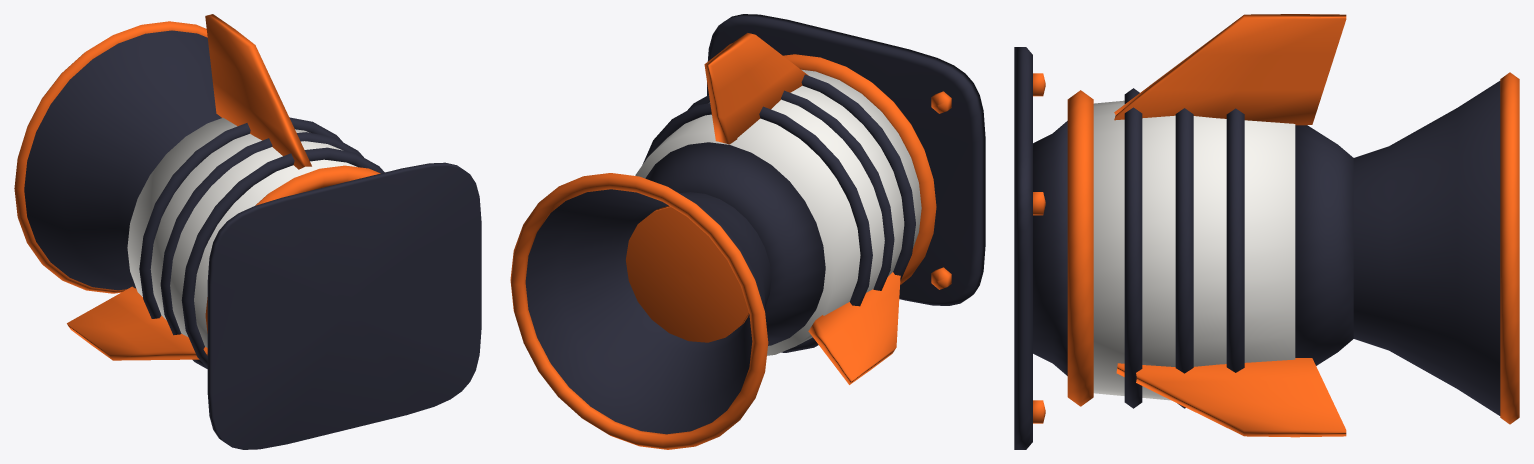
File: rocket_booster_hinten.glb
3 views of the same model, side by side, from view 1: azimuth 30°, elevation 25°; view 2: azimuth 150°, elevation 25°; view 3: azimuth 270°, elevation 25° (orthographic). The views are drawn at different scales.
Parts seen in each view (by area): view 1: MountPlate, Nozzle, Body, Fin_1, Fin_2, NozzleLip, Rib_1, Rib_3, Rib_2, Collar; view 2: Nozzle, MountPlate, Body, Waist, NozzleLip, NozzleThroat, Fin_1, Fin_2, Collar, Rib_3, Rib_1, Rib_2; view 3: Body, Nozzle, Fin_1, Waist, Fin_3, Collar, Adapter, MountPlate, NozzleLip, Rib_1, Rib_2, Rib_3.
Part boxes in pixels (x1,y1,x2,y2): MountPlate: [207, 162, 481, 449]; Nozzle: [24, 30, 221, 290]; Body: [127, 117, 356, 347]; Fin_1: [205, 14, 311, 169]; Fin_2: [67, 286, 207, 360]; NozzleLip: [14, 21, 207, 293]; Rib_1: [181, 147, 384, 367]; Rib_3: [139, 117, 342, 318]; Rib_2: [160, 132, 363, 368]; Collar: [205, 165, 380, 333]; Nozzle: [525, 189, 771, 434]; MountPlate: [707, 14, 985, 305]; Body: [635, 69, 921, 355]; Waist: [645, 142, 825, 345]; NozzleLip: [510, 173, 768, 449]; NozzleThroat: [626, 206, 749, 342]; Fin_1: [704, 33, 808, 144]; Fin_2: [808, 272, 900, 384]; Collar: [783, 54, 936, 284]; Rib_3: [642, 103, 872, 352]; Rib_1: [801, 74, 915, 280]; Rib_2: [687, 90, 894, 290]; Body: [1093, 100, 1295, 400]; Nozzle: [1353, 81, 1500, 415]; Fin_1: [1114, 14, 1346, 125]; Waist: [1295, 125, 1353, 365]; Fin_3: [1116, 358, 1346, 437]; Collar: [1067, 90, 1093, 406]; Adapter: [1033, 121, 1067, 375]; MountPlate: [1014, 47, 1032, 449]; NozzleLip: [1500, 72, 1519, 424]; Rib_1: [1124, 88, 1142, 408]; Rib_2: [1175, 108, 1193, 408]; Rib_3: [1226, 108, 1244, 372].
Size of the model in its own units: 0.467 by 0.507 by 0.5934.
